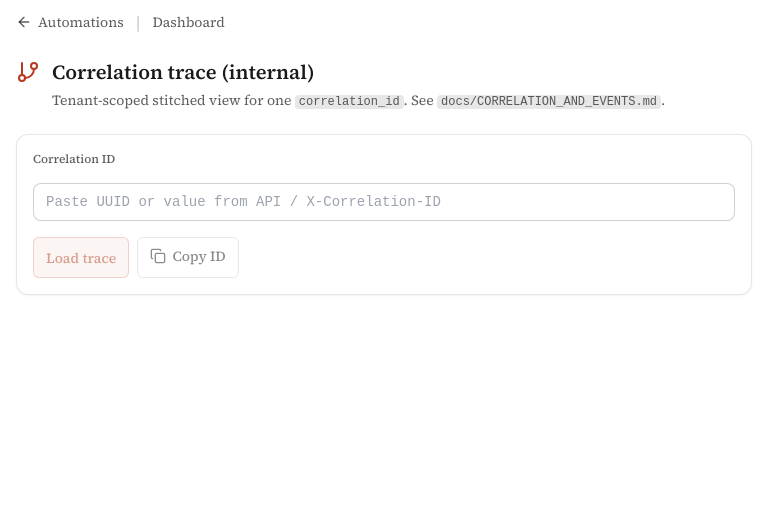
Test: CorrelationDebugPage › loads trace on button click and shows timeline
Type "abc" into the field with placeholder "Paste UUID or value from API / X-Correlation-ID" at (384, 202), box [33, 183, 735, 221]
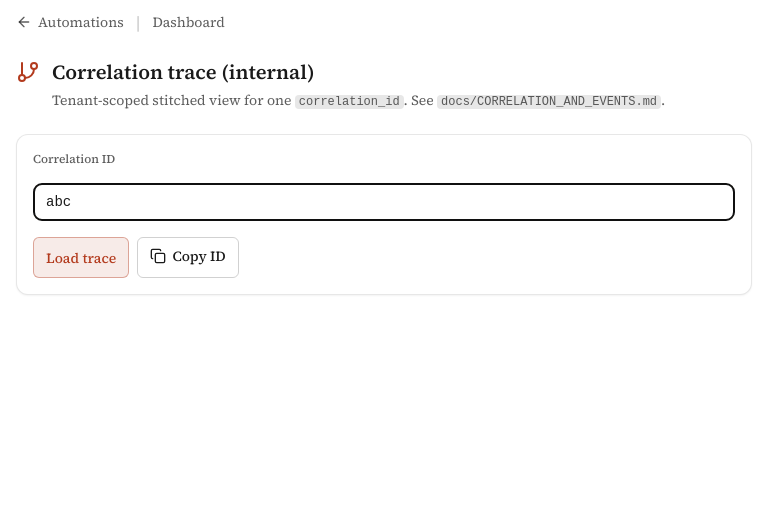
Click the button "Load trace" at (81, 258), box [33, 237, 129, 278]
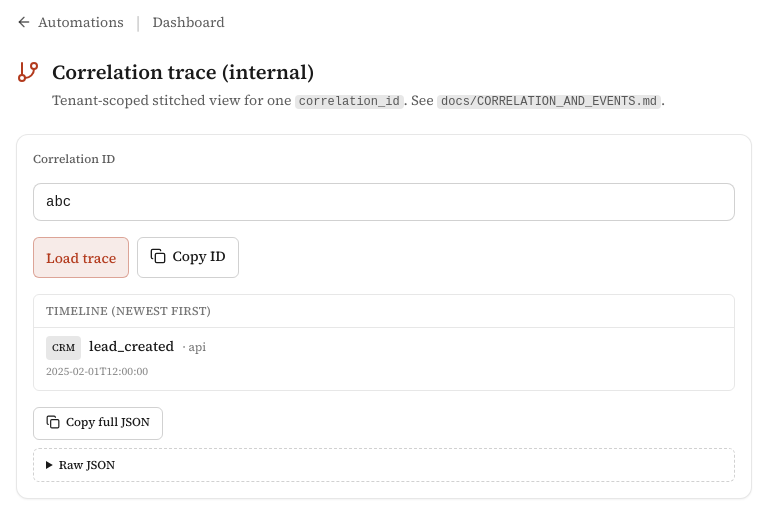
Now the text "Timeline (newest first)" is shown, box [34, 295, 734, 328]
Now the text "lead_created" is shown, box [89, 336, 174, 356]
